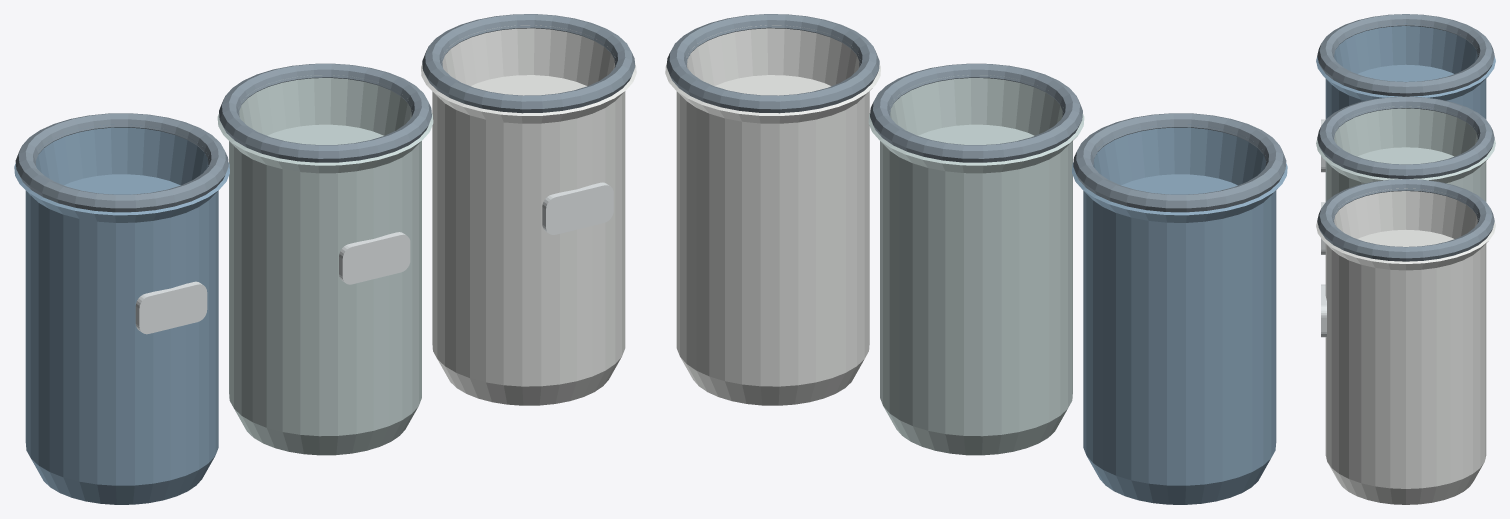
File: recycling_station.glb
3 views of the same model, side by side, from view 1: azimuth 30°, elevation 25°; view 2: azimuth 150°, elevation 25°; view 3: azimuth 270°, elevation 25° (orthographic). The views are drawn at different scales.
Visible parts, largest first — view 1: decor_d8dcd8_matte, decor_476a8a_matte, decor_9bb7b5_matte, decor_455665_metal, decor_d4dfe3_matte; view 2: decor_d8dcd8_matte, decor_476a8a_matte, decor_9bb7b5_matte, decor_455665_metal; view 3: decor_d8dcd8_matte, decor_455665_metal, decor_9bb7b5_matte, decor_476a8a_matte, decor_d4dfe3_matte.
Part boxes in pixels (x1,y1,x2,y2): decor_d8dcd8_matte: [421, 25, 636, 405]; decor_476a8a_matte: [14, 124, 229, 504]; decor_9bb7b5_matte: [217, 75, 433, 455]; decor_455665_metal: [15, 14, 635, 212]; decor_d4dfe3_matte: [135, 182, 613, 334]; decor_d8dcd8_matte: [665, 25, 880, 405]; decor_476a8a_matte: [1072, 124, 1287, 504]; decor_9bb7b5_matte: [868, 75, 1084, 455]; decor_455665_metal: [666, 14, 1286, 212]; decor_d8dcd8_matte: [1316, 188, 1495, 504]; decor_455665_metal: [1317, 14, 1494, 261]; decor_9bb7b5_matte: [1316, 106, 1495, 201]; decor_476a8a_matte: [1316, 23, 1495, 119]; decor_d4dfe3_matte: [1321, 119, 1326, 337].
Bounding box in the file's own units: 1.49 × 0.757 × 0.47.
